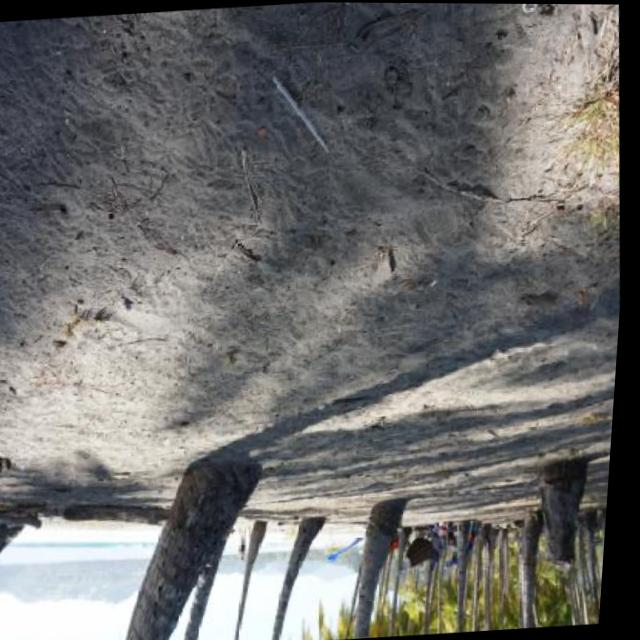plastic: (265, 69, 337, 160)
